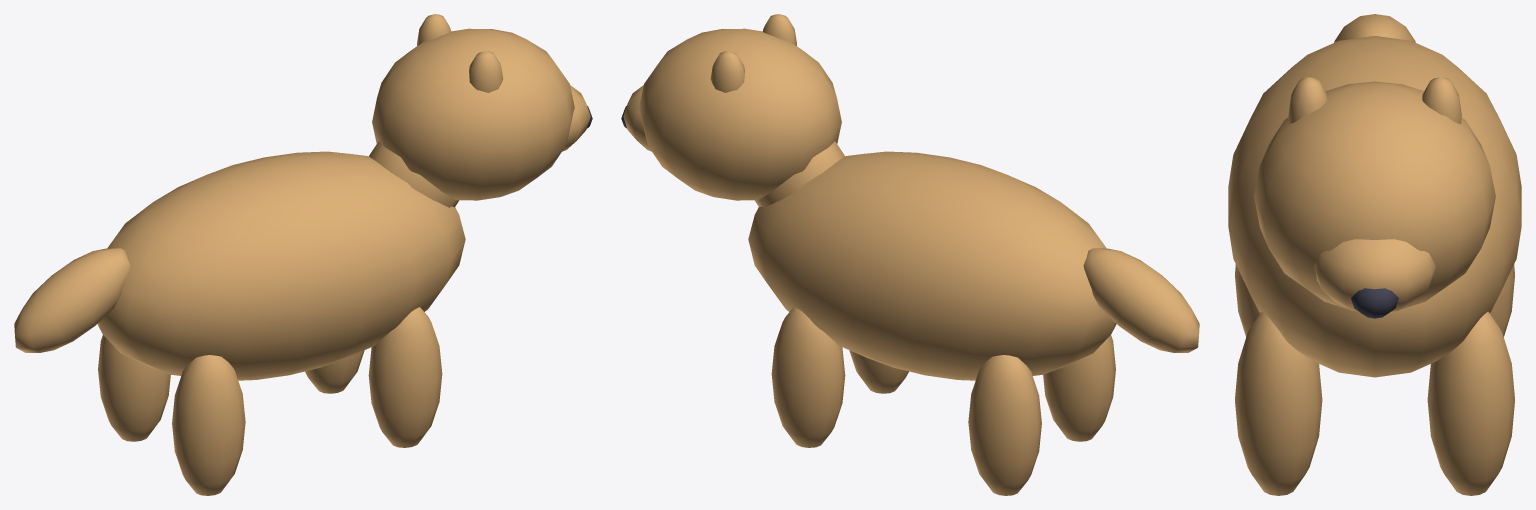
The model's file is puppy.glb.
3 renders of one model, left to right at view 1: azimuth 30°, elevation 25°; view 2: azimuth 150°, elevation 25°; view 3: azimuth 270°, elevation 25°, orthographic. The views are drawn at different scales.
Parts seen in each view (by area): view 1: Body, Head, LegBackLeft, LegFrontLeft, Tail, LegBackRight, Neck, LegFrontRight, EarLeft, Snout, EarRight; view 2: Body, Head, LegBackRight, LegFrontRight, Tail, LegBackLeft, Neck, LegFrontLeft, EarRight, Snout, EarLeft; view 3: Head, Body, LegFrontLeft, LegFrontRight, Snout, Tail, EarLeft, EarRight, Nose, LegBackLeft, LegBackRight.
Boxes of the visible parts, <box> form: Body: <box>97,151,465,380</box>; Head: <box>372,28,574,200</box>; LegBackLeft: <box>172,355,245,495</box>; LegFrontLeft: <box>368,307,442,447</box>; Tail: <box>14,248,130,352</box>; LegBackRight: <box>98,335,170,441</box>; Neck: <box>369,141,458,207</box>; LegFrontRight: <box>305,350,364,393</box>; EarLeft: <box>469,51,503,92</box>; Snout: <box>562,85,590,151</box>; EarRight: <box>417,14,450,45</box>; Body: <box>748,151,1116,380</box>; Head: <box>639,28,841,200</box>; LegBackRight: <box>968,355,1041,495</box>; LegFrontRight: <box>771,307,845,447</box>; Tail: <box>1083,248,1199,352</box>; LegBackLeft: <box>1043,335,1115,441</box>; Neck: <box>755,141,844,207</box>; LegFrontLeft: <box>849,350,908,393</box>; EarRight: <box>710,51,744,92</box>; Snout: <box>623,85,651,151</box>; EarLeft: <box>763,14,796,45</box>; Head: <box>1254,81,1495,309</box>; Body: <box>1228,36,1521,377</box>; LegFrontLeft: <box>1235,312,1322,495</box>; LegFrontRight: <box>1427,312,1514,495</box>; Snout: <box>1314,239,1435,311</box>; Tail: <box>1334,14,1415,42</box>; EarLeft: <box>1288,77,1327,124</box>; EarRight: <box>1422,77,1461,124</box>; Nose: <box>1351,288,1398,318</box>; LegBackLeft: <box>1235,264,1259,336</box>; LegBackRight: <box>1490,264,1514,336</box>.
Bounding box in the file's own units: 1.58 × 0.96 × 0.5357.
